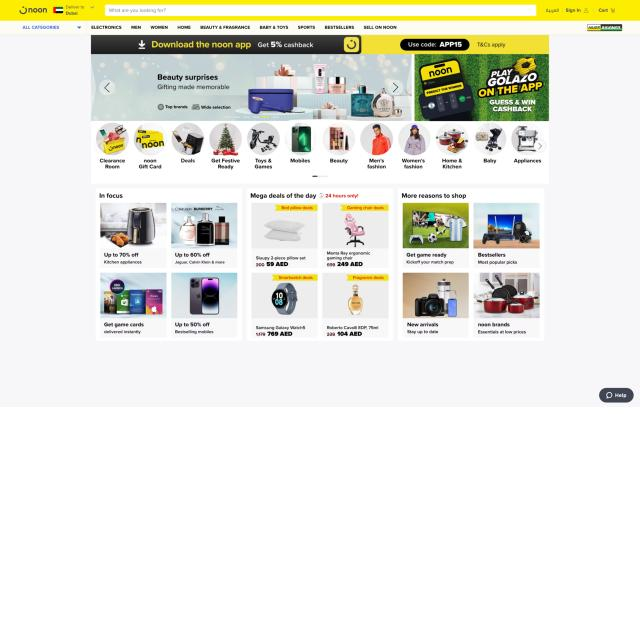input: (104, 4, 537, 17)
logo: (17, 4, 48, 16)
navigation: (19, 22, 400, 33)
progress bar: (311, 174, 329, 178)
